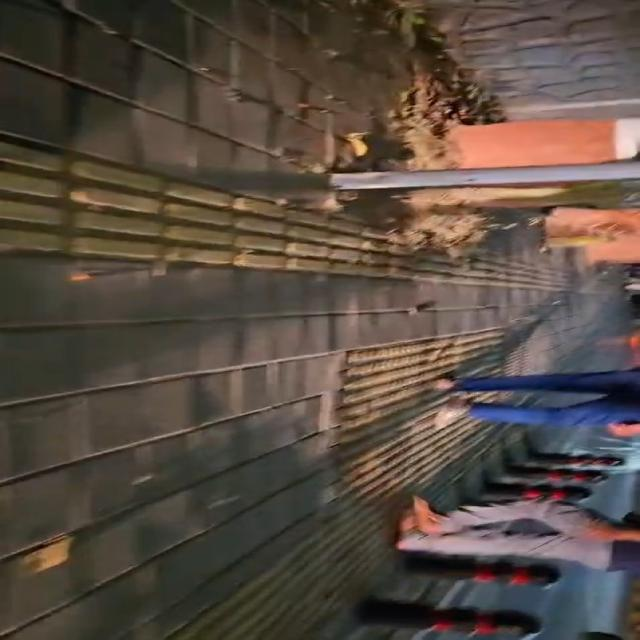obstacle: (331, 162, 639, 190)
person: (397, 498, 639, 573), (434, 369, 639, 437)
